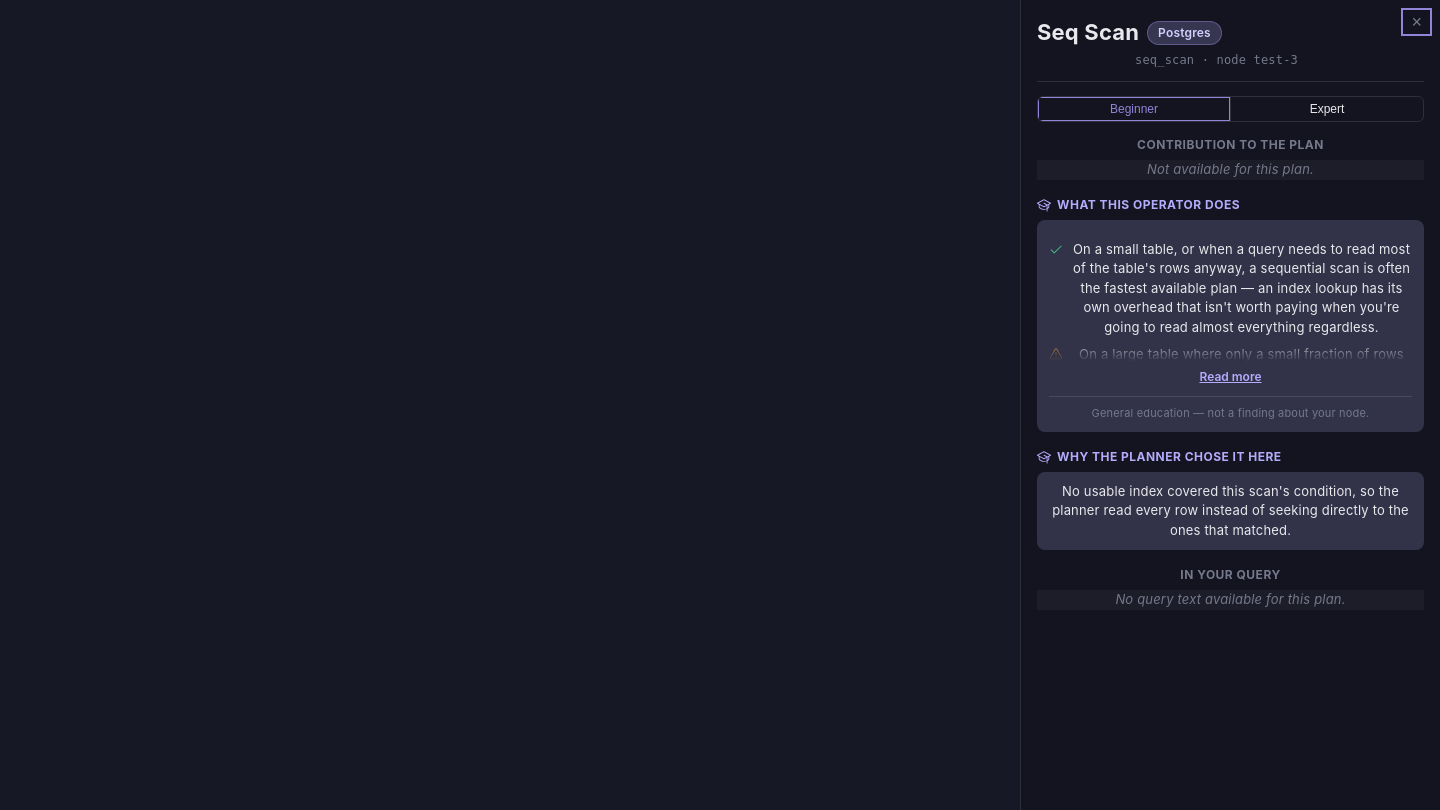
Test case: DetailPanel — large raw-attributes bag (Story 16.1 edge case, revised by Story 18.7) › Story 18.7: Expert mode expands 500 fields by default, within the same bounded-time budget Story 16.2 established for other bulk-content paths, not reintroducin
Click the button "Expert".
click(1326, 109)  # box left=1230, top=97, right=1423, bottom=121
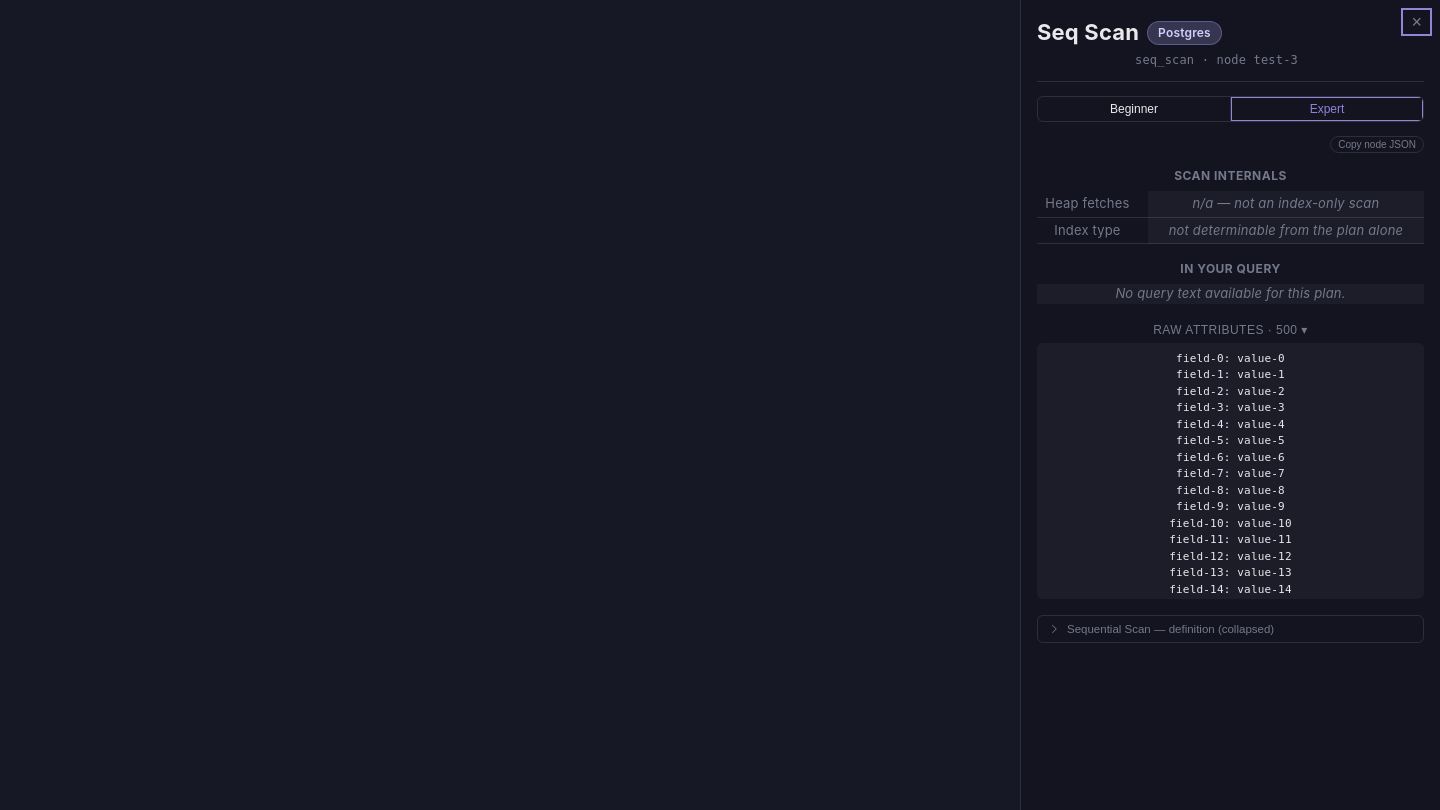
Now the element with test id "raw-attributes" is shown, box left=1037, top=320, right=1424, bottom=598
# Still manually collapsible.
Click the button "Raw attributes · 500 ▾".
click(1230, 330)  # box left=1153, top=322, right=1308, bottom=336
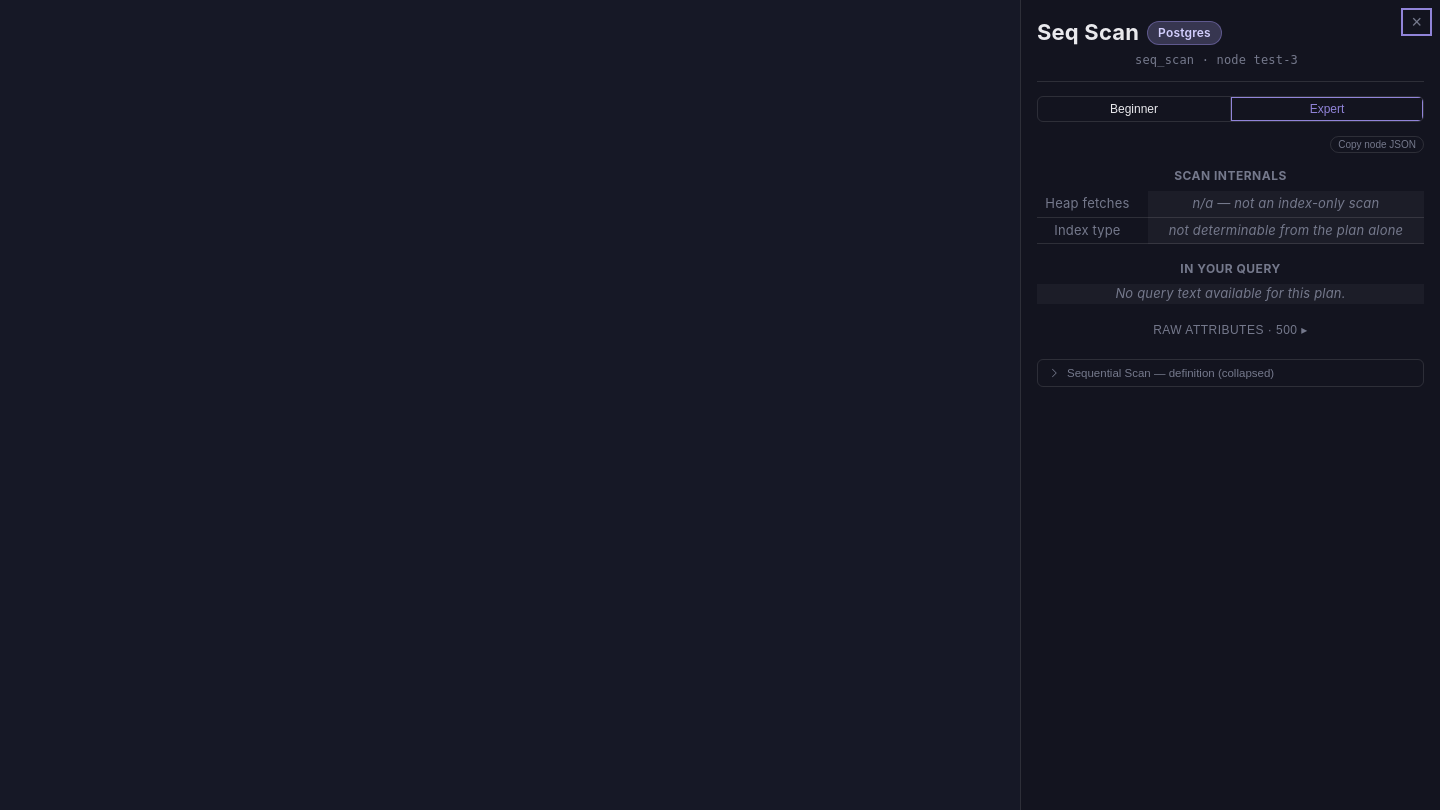
Now the text "field-0: value-0" is gone
